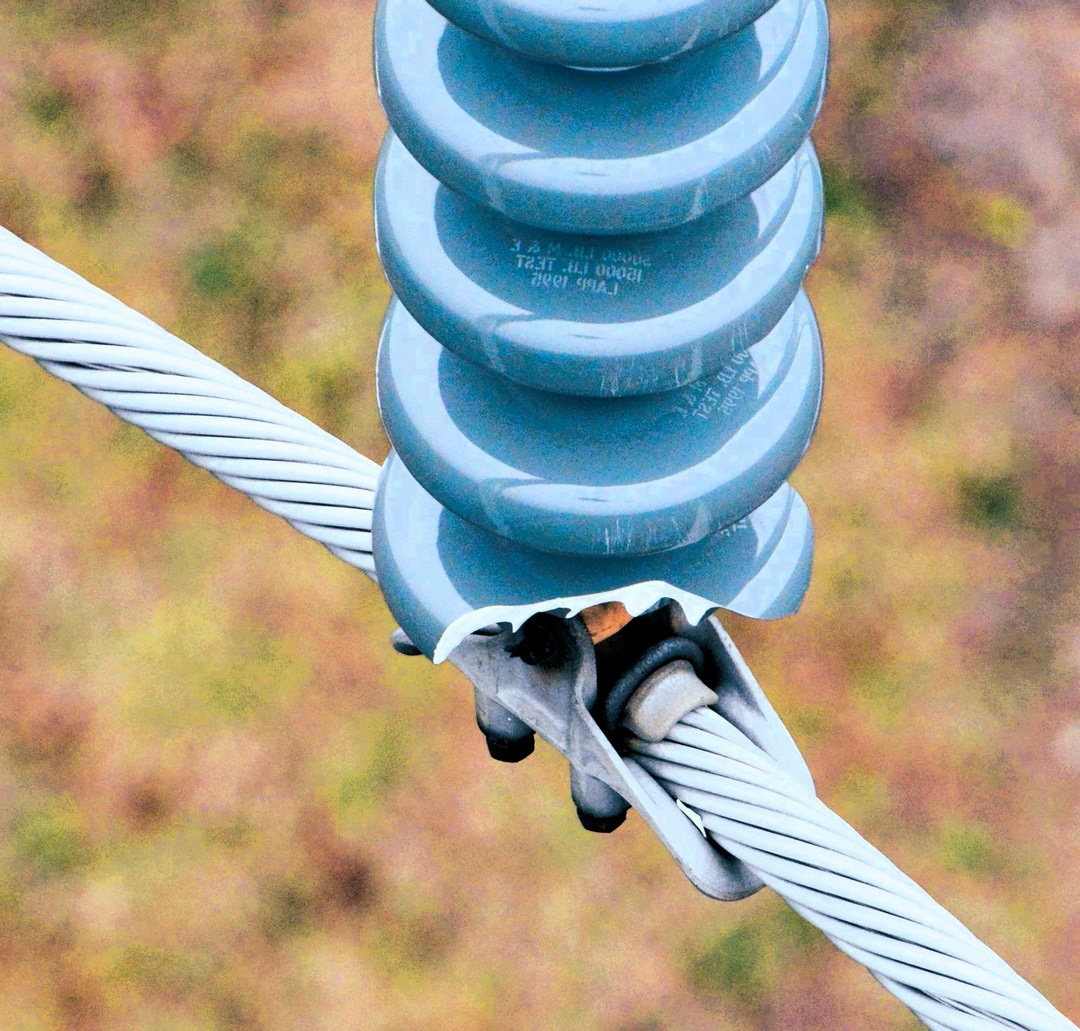insulator breakage: (360, 429, 816, 685)
